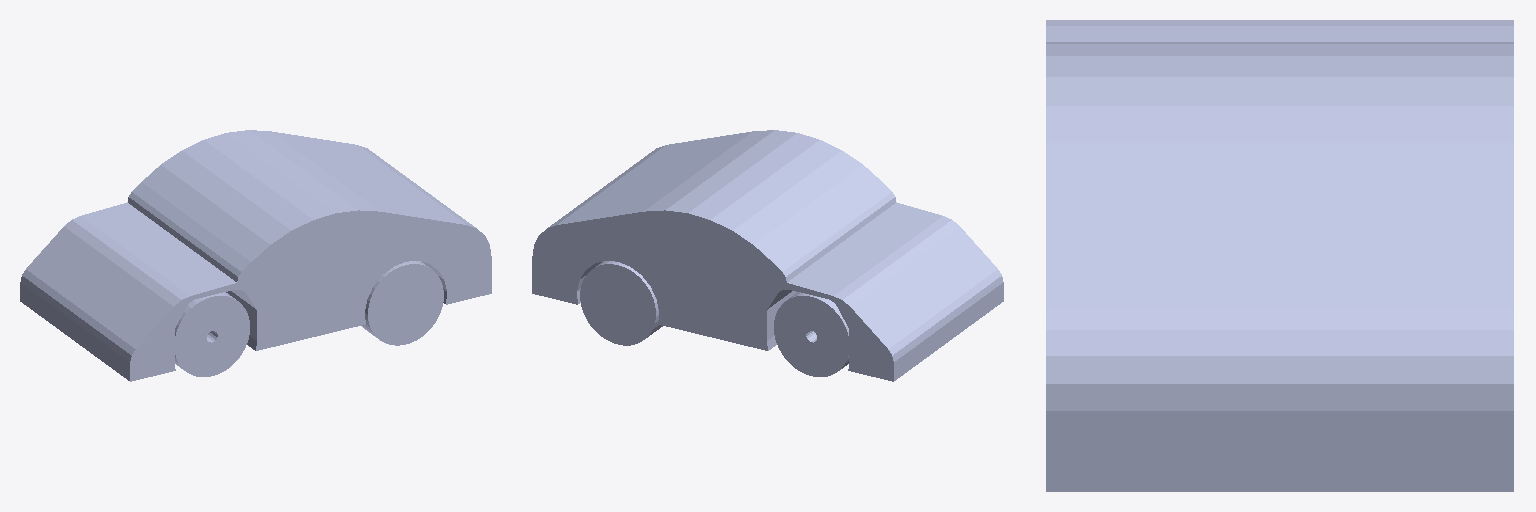
URDF robot description (my_car):
<?xml version="1.0" encoding="utf-8"?>
<!-- =================================================================================== -->
<!-- |    This document was autogenerated by xacro from my_car.xacro                   | -->
<!-- |    EDITING THIS FILE BY HAND IS NOT RECOMMENDED                                 | -->
<!-- =================================================================================== -->
<!-- =================================================================================== -->
<!-- |    This document was autogenerated by xacro from my_car_final.urdf              | -->
<!-- |    EDITING THIS FILE BY HAND IS NOT RECOMMENDED                                 | -->
<!-- =================================================================================== -->
<!-- =================================================================================== -->
<!-- |    This document was autogenerated by xacro from my_car.xacro                   | -->
<!-- |    EDITING THIS FILE BY HAND IS NOT RECOMMENDED                                 | -->
<!-- =================================================================================== -->
<!-- This URDF was automatically created by SolidWorks to URDF Exporter! Originally created by [author] ([email redacted]) 
     Commit Version: 1.6.0-1-g15f4949  Build Version: 1.6.7594.29634
     For more information, please see http://wiki.ros.org/sw_urdf_exporter -->
<robot name="my_car">
  <link name="base_laser">
    <inertial>
      <origin rpy="0 0 0" xyz="-0.00029774 0.0066667 0.00013047"/>
      <mass value="0.15717"/>
      <inertia ixx="6.7885E-05" ixy="-1.3987E-07" ixz="-8.1554E-07" iyy="0.00013173" iyz="-9.0932E-08" izz="7.1972E-05"/>
    </inertial>
    <visual>
      <origin rpy="0 0 0" xyz="0 0 0"/>
      <geometry>
        <mesh filename="package://my_car/meshes/ydlidar.dae"/>
      </geometry>
      <material name="">
        <color rgba="0.64706 0.61961 0.58824 1"/>
      </material>
    </visual>
    <collision>
      <origin rpy="0 0 0" xyz="0 0 0"/>
      <geometry>
        <mesh filename="package://my_car/meshes/ydlidar.dae"/>
      </geometry>
    </collision>
  </link>
  <link name="laser_frame">
    <inertial>
      <origin rpy="0 0 0" xyz="-0.00036659 0.00064155 -0.00027052"/>
      <mass value="0.25482"/>
      <inertia ixx="8.9194E-05" ixy="1.8116E-07" ixz="3.6435E-08" iyy="0.00018279" iyz="2.423E-07" izz="0.00011103"/>
    </inertial>
    <!--visual>
      <origin
        xyz="0 0 0"
        rpy="0 0 0" />
      <geometry>
        <mesh
          filename="package://ydlidar_ros/meshes/ydlidar.dae" />
      </geometry>
      <material
        name="">
        <color
          rgba="0.64706 0.61961 0.58824 1" />
      </material>
    </visual-->
    <!--collision>
      <origin
        xyz="0 0 0"
        rpy="0 0 0" />
      <geometry>
        <mesh
          filename="package://ydlidar_ros/meshes/ydlidar.dae" />
      </geometry>
    </collision-->
  </link>
  <joint name="laser_joint" type="fixed">
    <origin rpy="0 0 0" xyz="0 0 0.03172"/>
    <parent link="base_laser"/>
    <child link="laser_frame"/>
    <axis xyz="0 0 0"/>
  </joint>
  
  
  &gt;
  
  
  
  <link name="base_link">
    <inertial>
      <origin rpy="0 0 0" xyz="0.065609 0.17971 -6.3539E-18"/>
      <mass value="90.437"/>
      <inertia ixx="2.3213" ixy="-0.11083" ixz="-1.8146E-08" iyy="6.741" iyz="-5.9043E-17" izz="5.5108"/>
    </inertial>
    <visual>
      <origin rpy="0 0 0" xyz="0 0 0"/>
      <geometry>
        <mesh filename="package://my_car/meshes/base_link.STL"/>
      </geometry>
      <material name="">
        <color rgba="0.79216 0.81961 0.93333 1"/>
      </material>
    </visual>
    <collision>
      <origin rpy="0 0 0" xyz="0 0 0"/>
      <geometry>
        <mesh filename="package://my_car/meshes/base_link.STL"/>
      </geometry>
    </collision>
  </link>
  <link name="front_left_steering">
    <inertial>
      <origin rpy="0 0 0" xyz=" -5.5511E-17 0.00020772 0"/>
      <mass value="2.4413"/>
      <inertia ixx="0.0075579" ixy="-9.2586E-21" ixz="-1.8188E-35" iyy="0.012751" iyz="5.7305E-35" izz="0.0075579"/>
    </inertial>
  </link>
  <joint name="front_left_steering_joint" type="revolute">
    <origin rpy="0 0 3.1416" xyz="-0.26353 -0.2159 0.11466"/>
    <parent link="base_link"/>
    <child link="front_left_steering"/>
    <axis xyz="0 0 1"/>
    <limit effort="100" lower="-0.785" upper="0.785" velocity="0"/>
  </joint>
  <link name="front_left_wheel">
    <inertial>
      <origin rpy="0 0 0" xyz="0 0 0"/>
      <mass value="2.4413"/>
      <inertia ixx="0.0075579" ixy="-9.2586E-21" ixz="-1.8188E-35" iyy="0.012751" iyz="5.7305E-35" izz="0.0075579"/>
    </inertial>
    <visual>
      <origin rpy="0 0 0" xyz="0 0 0"/>
      <geometry>
        <mesh filename="package://my_car/meshes/front_left_steering.STL"/>
      </geometry>
      <material name="">
        <color rgba="0.79216 0.81961 0.93333 1"/>
      </material>
    </visual>
    <collision>
      <origin rpy="0 0 0" xyz="0 0 0"/>
      <geometry>
        <mesh filename="package://my_car/meshes/front_left_steering.STL"/>
      </geometry>
    </collision>
  </link>
  <joint name="front_left_wheel_joint" type="continuous">
    <origin rpy="0 0 3.1416" xyz="0 0 0"/>
    <parent link="front_left_steering"/>
    <child link="front_left_wheel"/>
    <axis xyz="0 1 0"/>
  </joint>
  <link name="front_right_steering">
    <inertial>
      <origin rpy="0 0 0" xyz="-5.5511E-17 -0.00020772 -1.3878E-17"/>
      <mass value="2.4413"/>
      <inertia ixx="0.0075579" ixy="-1.5134E-18" ixz="-5.4803E-34" iyy="0.012751" iyz="-3.0127E-19" izz="0.0075579"/>
    </inertial>
  </link>
  <joint name="front_right_steering_joint" type="revolute">
    <origin rpy="0 0 3.1416" xyz="-0.26353 0.2159 0.11466"/>
    <parent link="base_link"/>
    <child link="front_right_steering"/>
    <axis xyz="0 0 1"/>
    <limit effort="100" lower="-0.785" upper="0.785" velocity="0"/>
  </joint>
  <link name="front_right_wheel">
    <inertial>
      <origin rpy="0 0 0" xyz="0 0 0"/>
      <mass value="2.4413"/>
      <inertia ixx="0.0075579" ixy="-1.5134E-18" ixz="-5.4803E-34" iyy="0.012751" iyz="-3.0127E-19" izz="0.0075579"/>
    </inertial>
    <visual>
      <origin rpy="0 0 0" xyz="0 0 0"/>
      <geometry>
        <mesh filename="package://my_car/meshes/front_right_steering.STL"/>
      </geometry>
      <material name="">
        <color rgba="0.79216 0.81961 0.93333 1"/>
      </material>
    </visual>
    <collision>
      <origin rpy="0 0 0" xyz="0 0 0"/>
      <geometry>
        <mesh filename="package://my_car/meshes/front_right_steering.STL"/>
      </geometry>
    </collision>
  </link>
  <joint name="front_right_wheel_joint" type="continuous">
    <origin rpy="0 0 3.1416" xyz="0 0 0"/>
    <parent link="front_right_steering"/>
    <child link="front_right_wheel"/>
    <axis xyz="0 -1 0"/>
  </joint>
  <link name="rear_wheels">
    <inertial>
      <origin rpy="0 0 0" xyz="1.6653E-16 0 -2.7756E-17"/>
      <mass value="4.8826"/>
      <inertia ixx="0.015116" ixy="1.2777E-20" ixz="-9.7389E-19" iyy="0.025501" iyz="3.5405E-19" izz="0.015116"/>
    </inertial>
    <visual>
      <origin rpy="0 0 0" xyz="0 0 0"/>
      <geometry>
        <mesh filename="package://my_car/meshes/rear_wheels.STL"/>
      </geometry>
      <material name="">
        <color rgba="0.79216 0.81961 0.93333 1"/>
      </material>
    </visual>
    <collision>
      <origin rpy="0 0 0" xyz="0 0 0"/>
      <geometry>
        <mesh filename="package://my_car/meshes/rear_wheels.STL"/>
      </geometry>
    </collision>
  </link>
  <joint name="rear_wheels_joint" type="continuous">
    <origin rpy="0 0 3.1416" xyz="0.254 0 0.075"/>
    <parent link="base_link"/>
    <child link="rear_wheels"/>
    <axis xyz="0 1 0"/>
    <limit effort="100" velocity="0"/>
  </joint>
  <transmission name="front_left_trans">
    <type>transmission_interface/SimpleTransmission</type>
    <joint name="front_left_steering_joint">
      <hardwareInterface>hardware_interface/EffortJointInterface</hardwareInterface>
    </joint>
    <actuator name="motor1">
      <hardwareInterface>hardware_interface/EffortJointInterface</hardwareInterface>
      <mechanicalReduction>1</mechanicalReduction>
    </actuator>
  </transmission>
  <transmission name="front_right_trans">
    <type>transmission_interface/SimpleTransmission</type>
    <joint name="front_right_steering_joint">
      <hardwareInterface>hardware_interface/EffortJointInterface</hardwareInterface>
    </joint>
    <actuator name="motor2">
      <hardwareInterface>hardware_interface/EffortJointInterface</hardwareInterface>
      <mechanicalReduction>1</mechanicalReduction>
    </actuator>
  </transmission>
  <transmission name="rear_trans">
    <type>transmission_interface/SimpleTransmission</type>
    <joint name="rear_wheels_joint">
      <hardwareInterface>hardware_interface/EffortJointInterface</hardwareInterface>
    </joint>
    <actuator name="motor3">
      <hardwareInterface>hardware_interface/EffortJointInterface</hardwareInterface>
      <mechanicalReduction>1</mechanicalReduction>
    </actuator>
  </transmission>
  <joint name="lidar_joint" type="fixed">
    <origin rpy="0 0 0" xyz="0 0 0.35"/>
    <parent link="base_link"/>
    <child link="base_laser"/>
  </joint>
  <gazebo>
    <plugin filename="libgazebo_ros_control.so" name="gazebo_ros_control">
      <robotNamespace>/</robotNamespace>
    </plugin>
  </gazebo>
  <gazebo reference="base_laser">
    <sensor name="head_hokuyo_sensor" type="gpu_ray">
      <pose>0 0 0 0 0 0</pose>
      <visualize>true</visualize>
      <update_rate>40</update_rate>
      <ray>
        <scan>
          <horizontal>
            <samples>720</samples>
            <resolution>1</resolution>
            <min_angle>-1.570796</min_angle>
            <max_angle>1.570796</max_angle>
          </horizontal>
        </scan>
        <range>
          <min>0.10</min>
          <max>30.0</max>
          <resolution>0.01</resolution>
        </range>
        <noise>
          <type>gaussian</type>
          <mean>0.0</mean>
          <stddev>0.01</stddev>
        </noise>
      </ray>
      <plugin filename="libgazebo_ros_gpu_laser.so" name="gazebo_ros_head_hokuyo_controller">
        <topicName>/my_car/laser/scan</topicName>
        <frameName>laser_frame</frameName>
      </plugin>
    </sensor>
  </gazebo>
</robot>

--- Facts derived from the render (not from the file) ---
The picture shows the robot from 3 angles, left to right: view 1: azimuth 30°, elevation 25°; view 2: azimuth 150°, elevation 25°; view 3: azimuth 270°, elevation 25°; orthographic projection.
Robot: my_car — 8 links, 7 joints (2 revolute, 3 continuous, 2 fixed); root link base_link; default pose: all joints at 0.
Links seen in each view (by area): view 1: base_link, rear_wheels, front_left_wheel; view 2: base_link, rear_wheels, front_right_wheel; view 3: base_link.
Boxes of the visible links, x1=… form: base_link: x1=20, y1=130, x2=491, y2=381; rear_wheels: x1=362, y1=261, x2=443, y2=345; front_left_wheel: x1=174, y1=292, x2=249, y2=376; base_link: x1=532, y1=130, x2=1003, y2=381; rear_wheels: x1=580, y1=261, x2=662, y2=345; front_right_wheel: x1=774, y1=292, x2=848, y2=376; base_link: x1=1046, y1=20, x2=1513, y2=491.
Bounding box of the posed robot: 0.9652 × 0.508 × 0.379 m (x, y, z).
Meshes: 5 distinct files referenced, 4 mesh visuals loaded (4 binary STL); not drawn: 1 (reference not matched to a file when rendering).